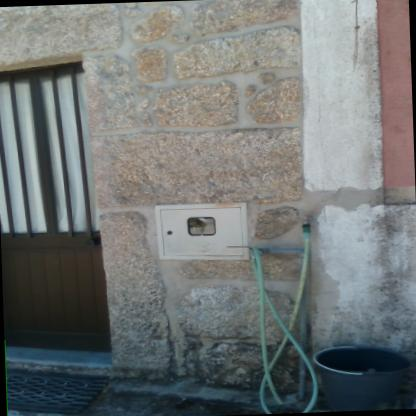closed: (0, 42, 109, 381)
